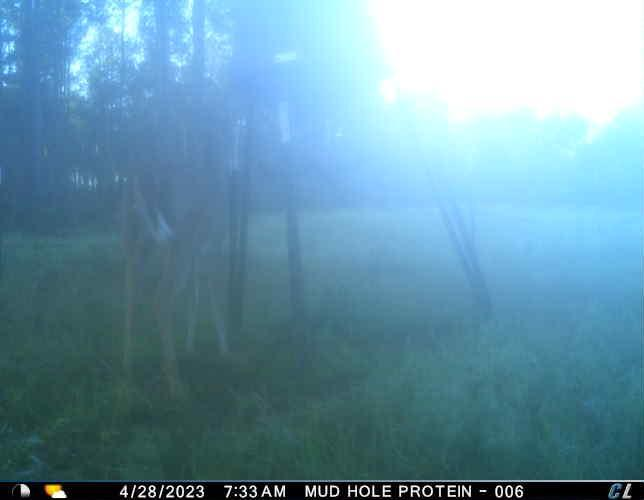Deer: (109, 147, 240, 403)
